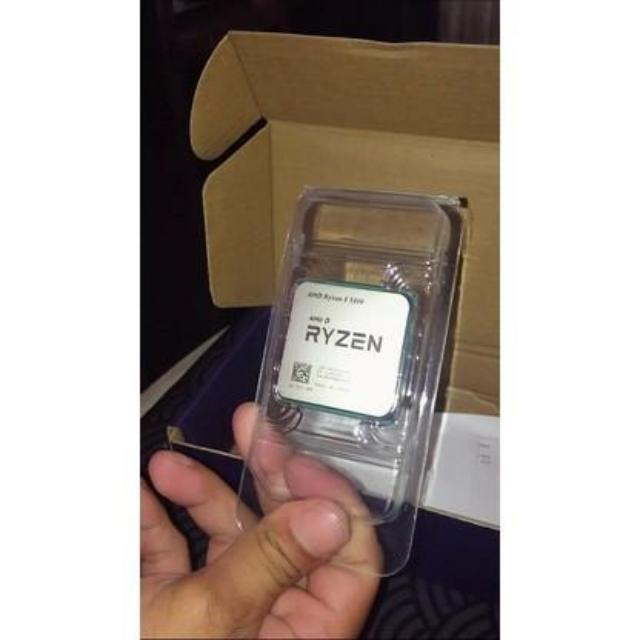CPU: (279, 282, 407, 418)
